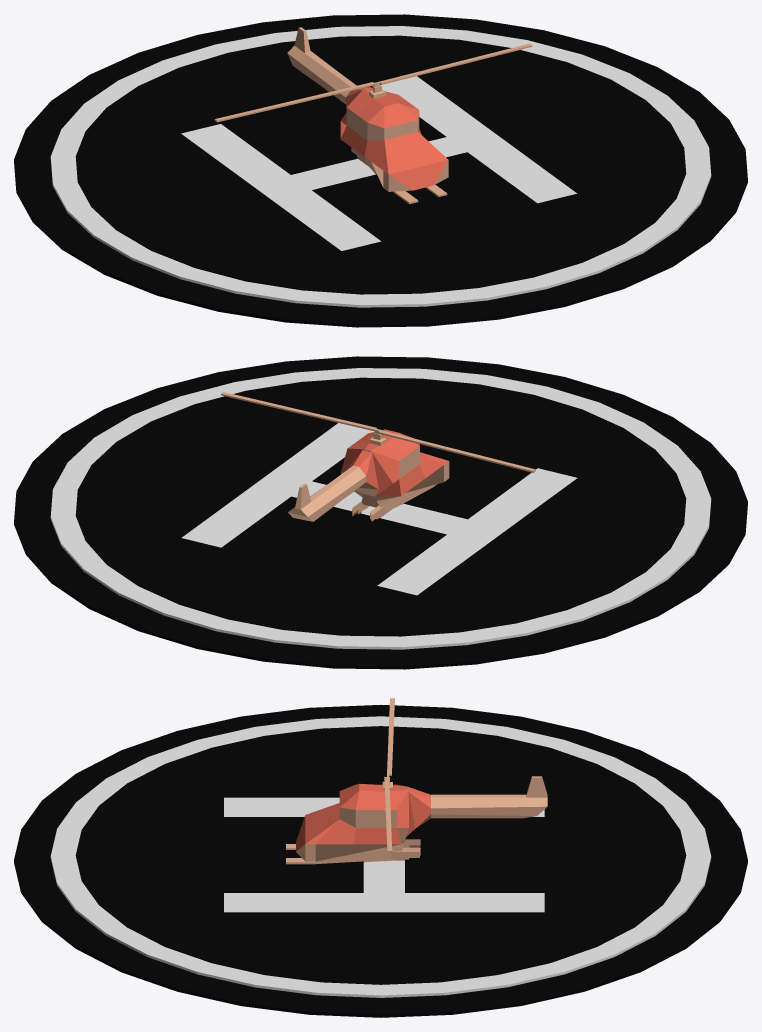
Rendered from helipadblend.glb.
3 views of the same model, one above another, from view 1: azimuth 30°, elevation 25°; view 2: azimuth 150°, elevation 25°; view 3: azimuth 270°, elevation 25° (orthographic).
Parts seen in each view (by area): view 1: Cylinder.002, Cylinder.001, Cylinder, Cube; view 2: Cylinder.002, Cylinder.001, Cylinder, Cube; view 3: Cylinder.002, Cylinder, Cylinder.001, Cube.
Boxes of the visible parts, x1,y1,x2,y2 form: Cylinder.002: [75, 35, 686, 294]; Cylinder.001: [50, 26, 711, 307]; Cylinder: [14, 14, 747, 327]; Cube: [214, 27, 532, 204]; Cylinder.002: [75, 377, 686, 636]; Cylinder.001: [50, 368, 711, 649]; Cylinder: [14, 356, 747, 669]; Cube: [221, 392, 535, 521]; Cylinder.002: [75, 726, 686, 984]; Cylinder: [14, 705, 747, 1017]; Cylinder.001: [50, 716, 711, 997]; Cube: [286, 698, 547, 864].
Bounding box in the file's own units: 14.02 × 1.83 × 14.02.
